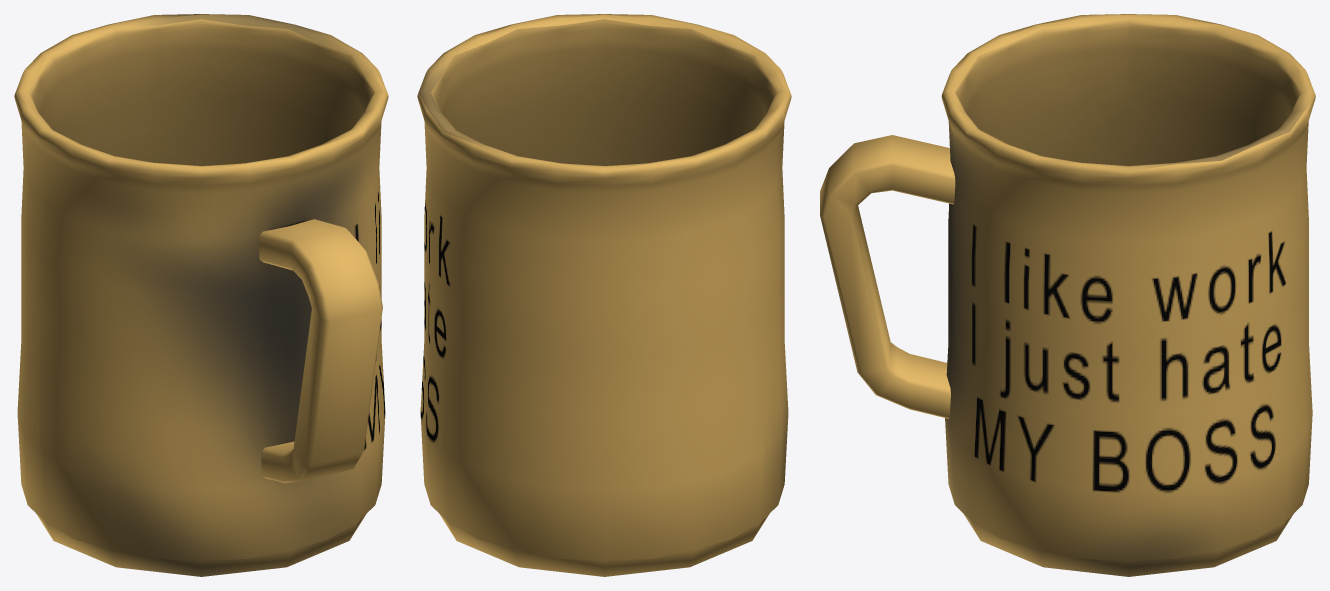
File: mug01.obj
The picture shows the model from 3 angles, left to right: view 1: azimuth 30°, elevation 25°; view 2: azimuth 150°, elevation 25°; view 3: azimuth 270°, elevation 25°; orthographic projection.
Visible parts, largest first — view 1: coffee_mug_01_model; view 2: coffee_mug_01_model; view 3: coffee_mug_01_model.
Boxes of the visible parts, left/top/right/bottom form: coffee_mug_01_model: left=14, top=14, right=388, bottom=576; coffee_mug_01_model: left=417, top=14, right=791, bottom=576; coffee_mug_01_model: left=820, top=14, right=1315, bottom=576.
Bounding box in the file's own units: 4.15 × 5.08 × 5.5.
